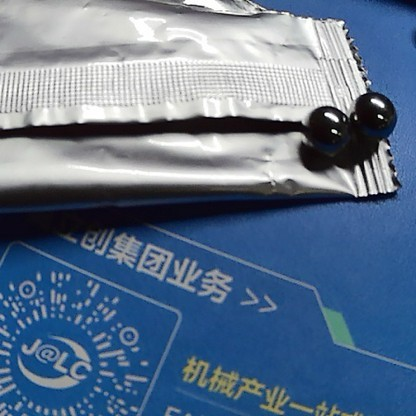ironball: (301, 97, 349, 152), (355, 90, 398, 140)
